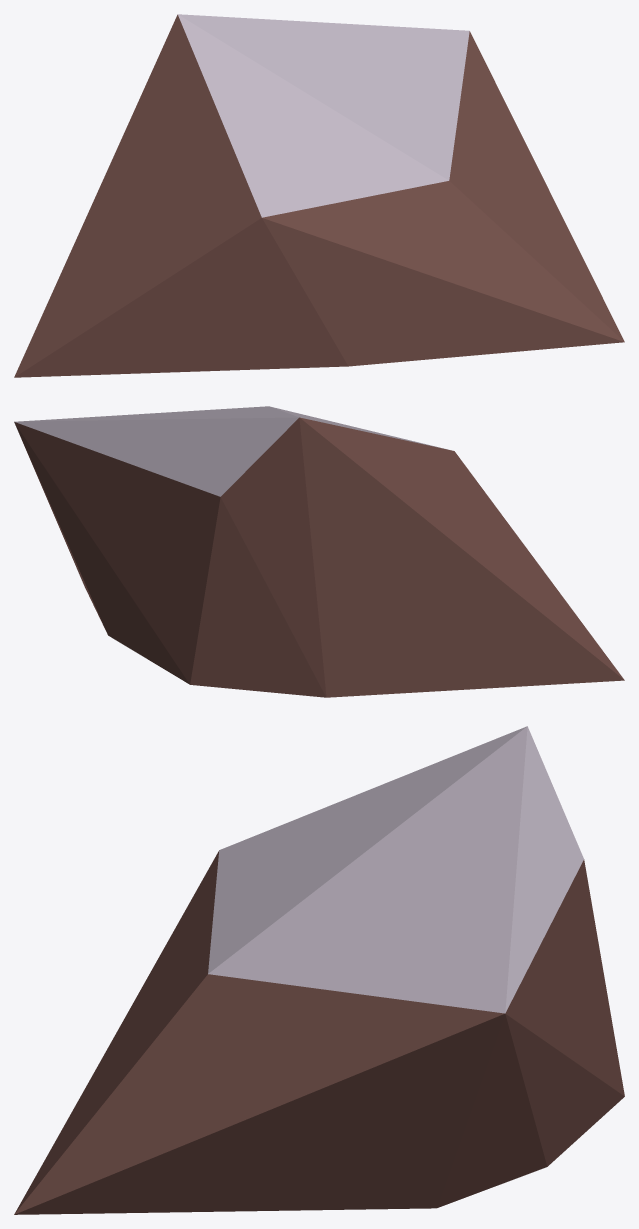
Rendered from TreeStump_Snow.lod4.glb.
3 renders of one model, top to bottom at view 1: azimuth 30°, elevation 25°; view 2: azimuth 150°, elevation 25°; view 3: azimuth 270°, elevation 25°, orthographic. The views are drawn at different scales.
Visible parts, largest first — view 1: TreeStump_Snow; view 2: TreeStump_Snow; view 3: TreeStump_Snow.
Boxes of the visible parts, box(x1,y1,x2,y2) form: TreeStump_Snow: box(14, 14, 624, 377); TreeStump_Snow: box(14, 406, 624, 697); TreeStump_Snow: box(14, 726, 624, 1214).
Bounding box in the file's own units: 1.36 × 0.6239 × 1.05.
